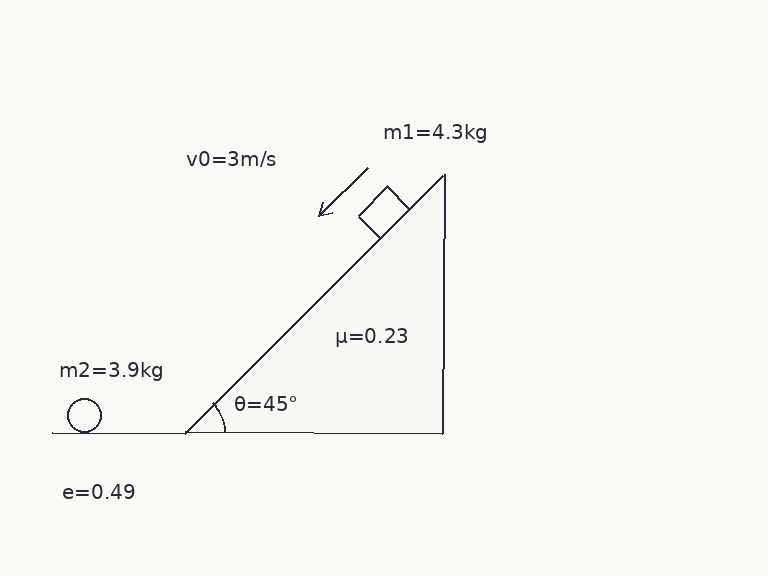ball: (65, 396, 103, 434)
block: (356, 185, 411, 240)
ramp: (183, 173, 444, 434)
